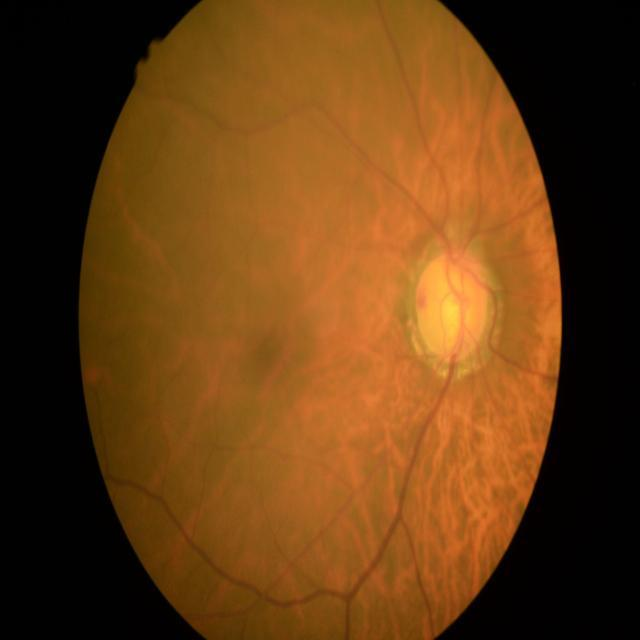cup: (424, 264, 480, 352)
disk: (415, 248, 490, 364)
